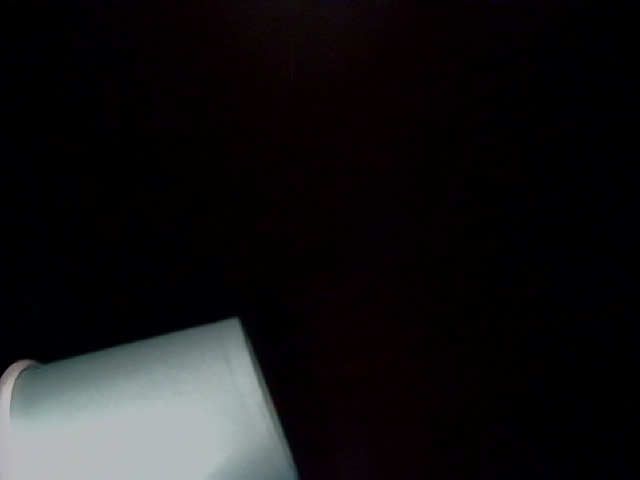KHSLJ: (155, 1, 639, 271)
